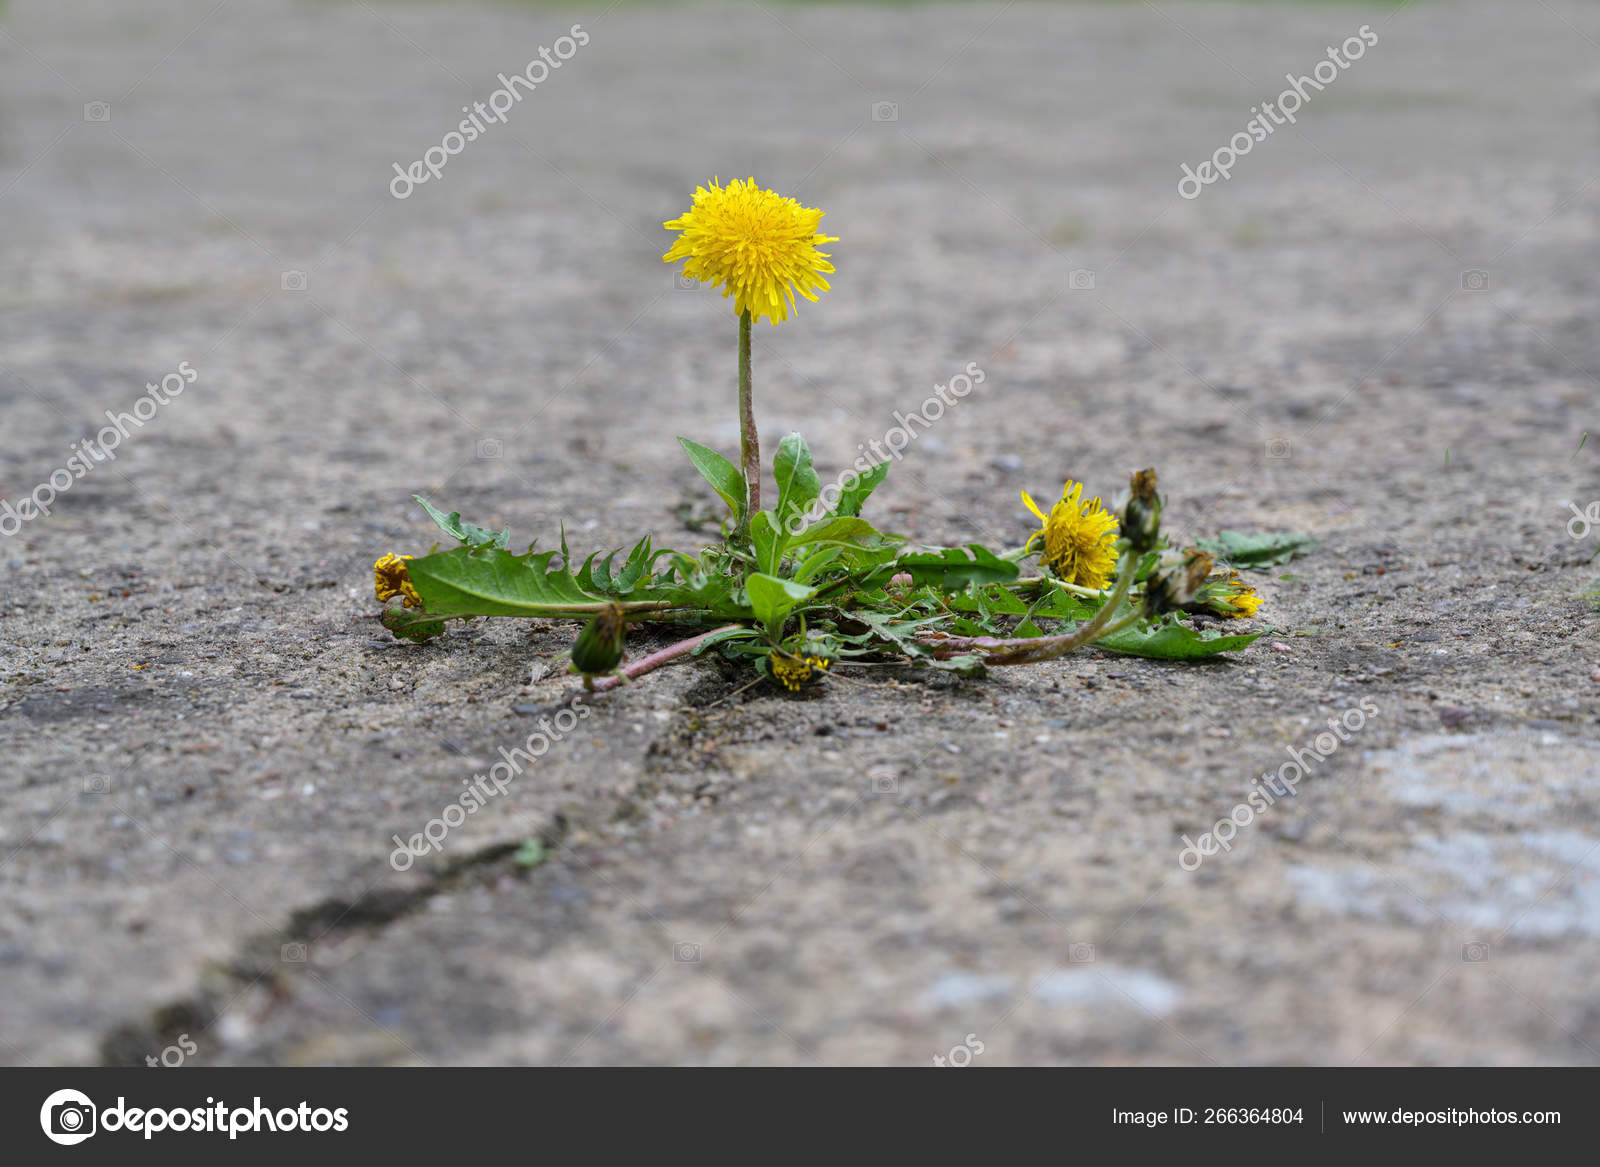dandelion: (626, 175, 843, 317), (1034, 466, 1111, 597)
